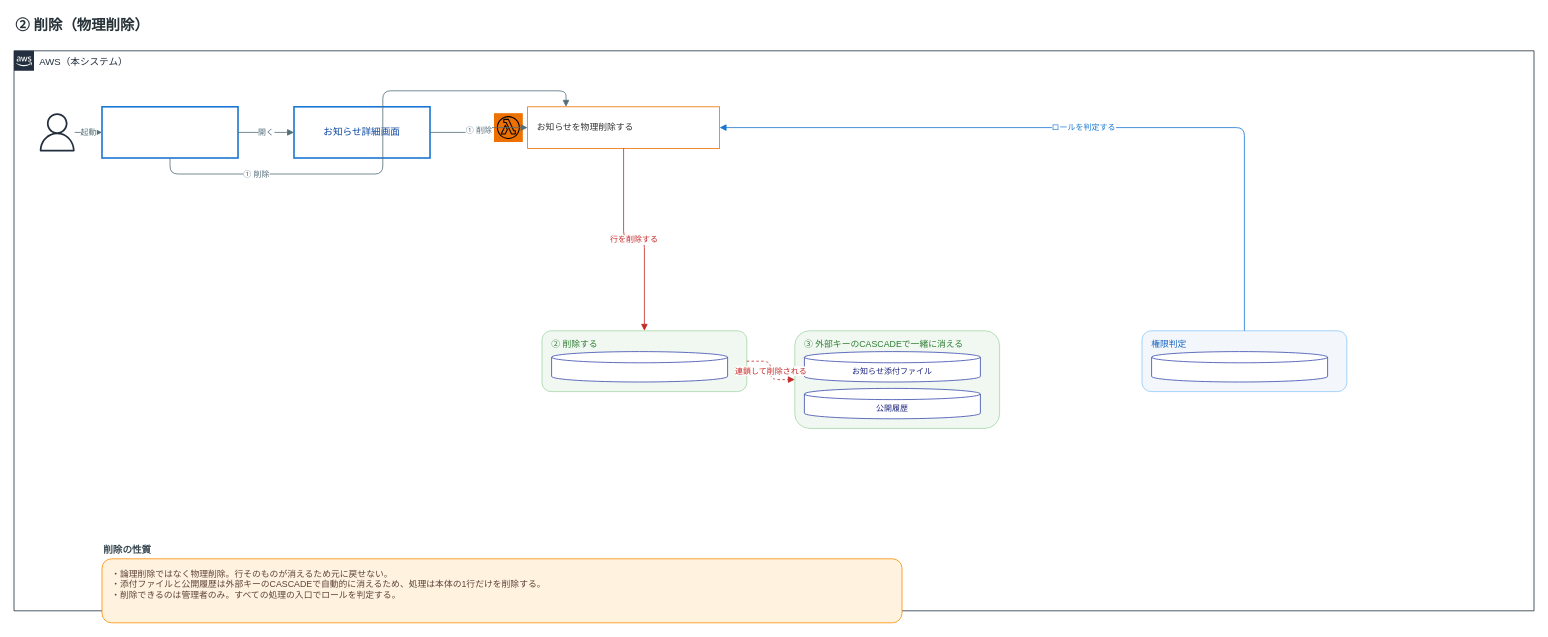
This 1548x637 diagram has some shape labels left out. Each missing label, with the centre of its shape:
"お知らせ" goes at (x=639, y=366).
"お知らせ一覧画面" goes at (x=169, y=132).
"利用者マスタ" goes at (x=1239, y=366).
"担当者" goes at (x=57, y=132).
